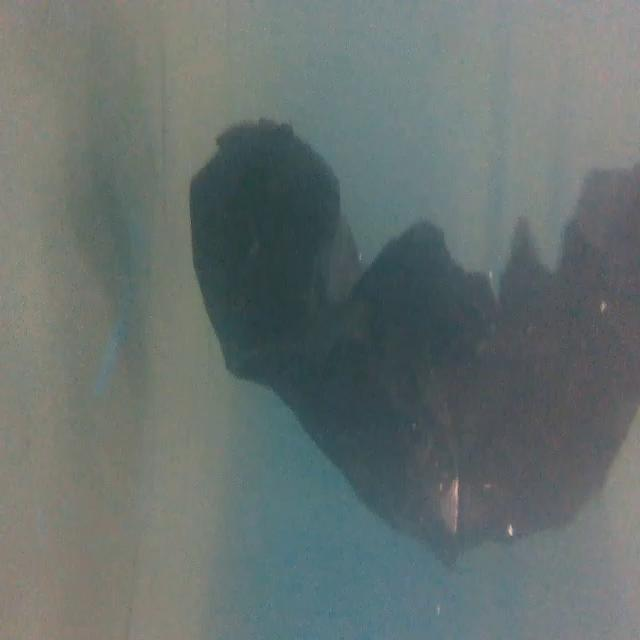plastic bags: (184, 93, 640, 580)
